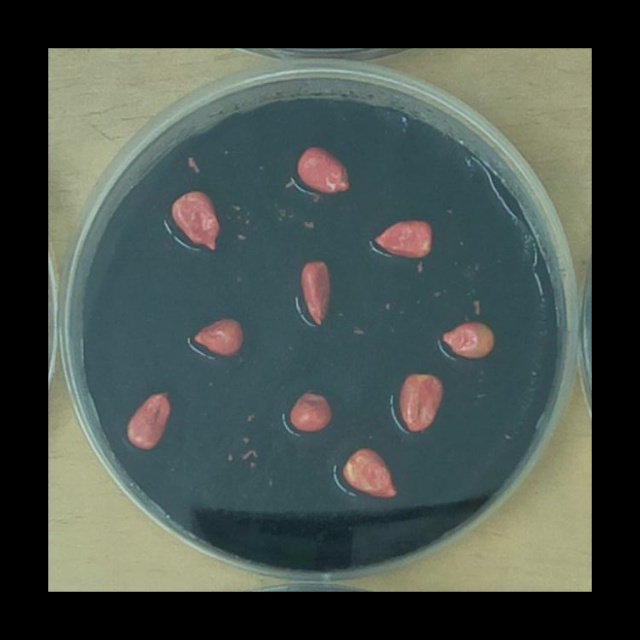Zea mays: (166, 183, 226, 256), (120, 382, 179, 455), (290, 139, 357, 201), (392, 367, 450, 438), (336, 442, 402, 504), (366, 212, 438, 263), (294, 253, 338, 331), (435, 315, 500, 364), (186, 310, 249, 360), (284, 383, 339, 437)
